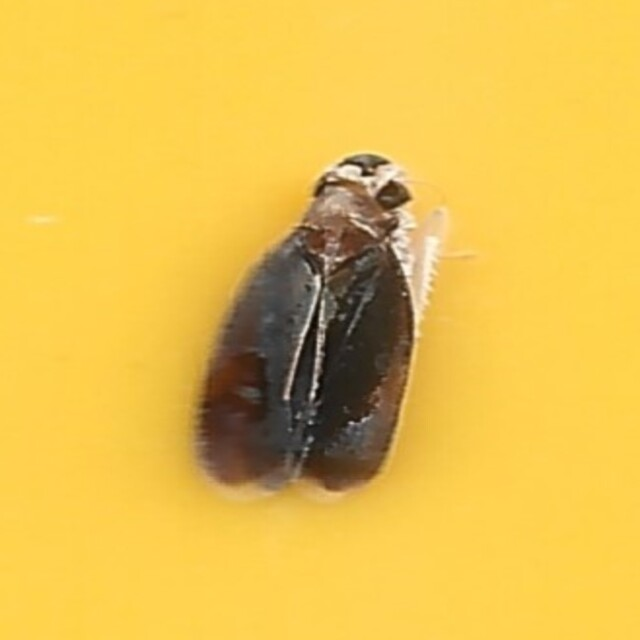Hemiptera: (195, 146, 445, 494)
